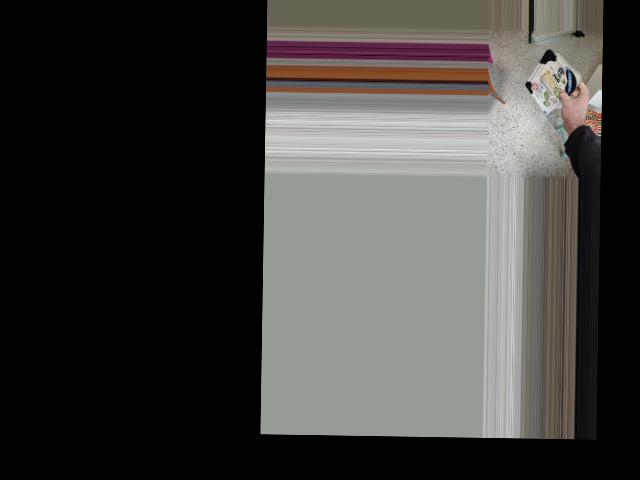cheese: (518, 50, 593, 105)
